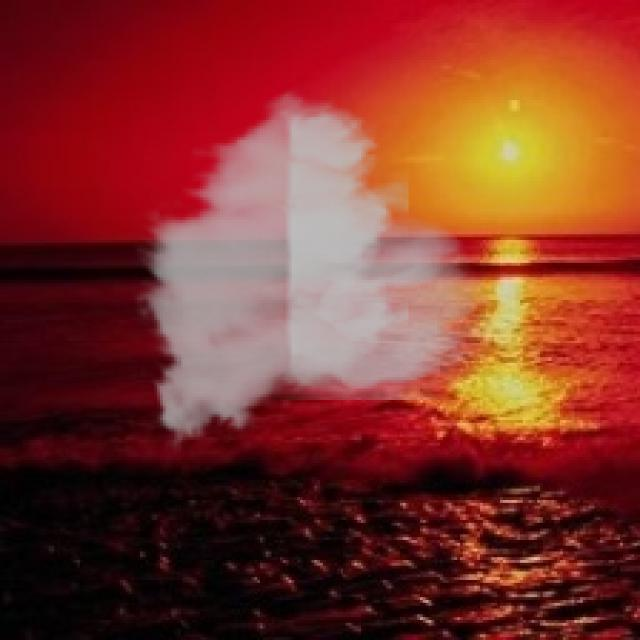smoke: (132, 80, 492, 457)
